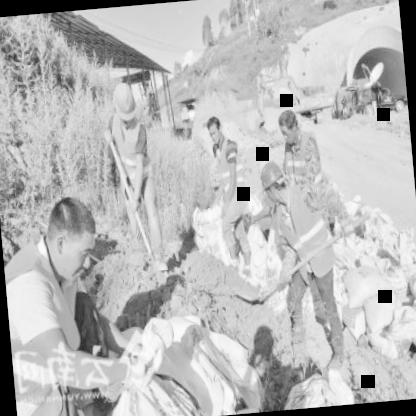head: (36, 190, 104, 288), (274, 106, 305, 150), (205, 110, 225, 148)
helmet: (108, 78, 140, 128), (258, 156, 289, 207)
